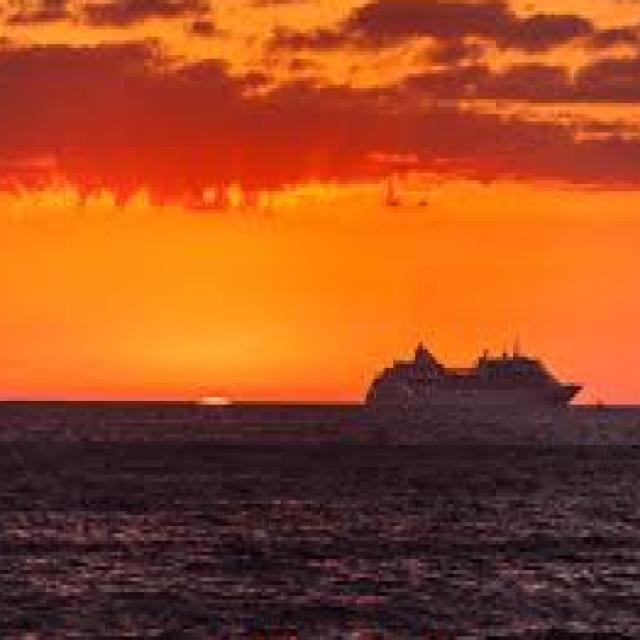navalvessels: (362, 320, 584, 426)
